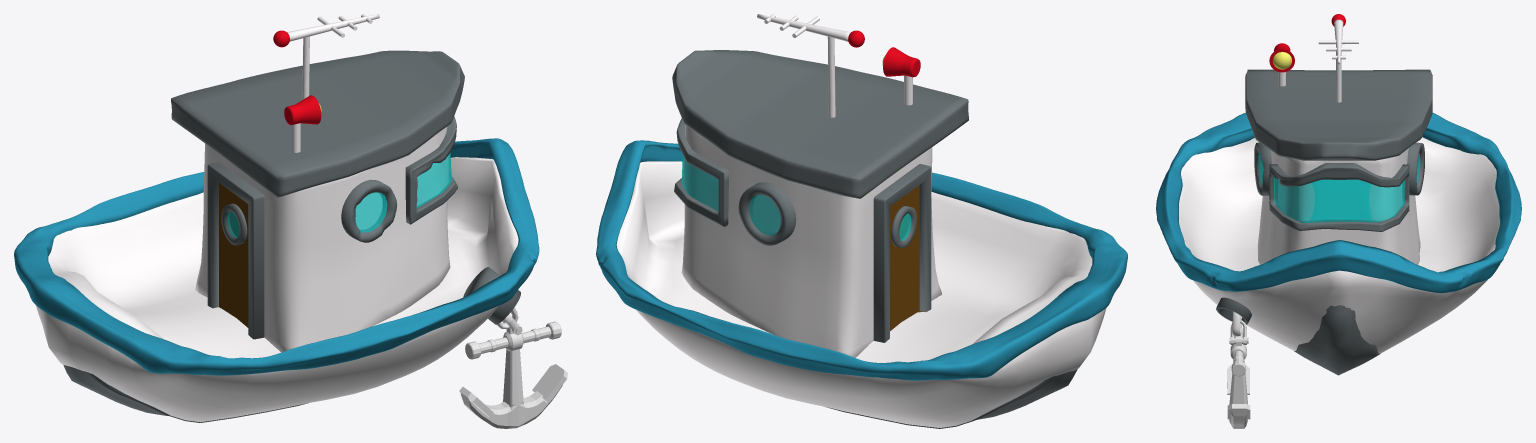
Rendered from Boat3.fbx.
The picture shows the model from 3 angles, left to right: view 1: azimuth 30°, elevation 25°; view 2: azimuth 150°, elevation 25°; view 3: azimuth 270°, elevation 25°; orthographic projection. The views are drawn at different scales.
Parts seen in each view (by area): view 1: Cube, Cube.001, Plane.001, Cube.002, Cube.006, Cube.004, Cube.003, Plane.002, Circle.001, Sphere, Cube.005, Plane (+4 smaller); view 2: Cube, Plane.001, Cube.001, Cube.002, Cube.004, Cube.003, Plane.002, Circle.006, Sphere, Cube.005, Plane, Circle.005 (+2 smaller); view 3: Cube, Cube.002, Plane.001, Cube.001, Plane, Plane.002, Cube.005, Cube.006, Sphere, Circle.006, Circle.001, Sphere.001 (+1 smaller).
Part boxes in pixels (x1=…): Cube: x1=36, y1=157, x2=518, y2=422; Cube.001: x1=195, y1=127, x2=450, y2=352; Plane.001: x1=171, y1=50, x2=464, y2=197; Cube.002: x1=14, y1=138, x2=539, y2=375; Cube.006: x1=459, y1=314, x2=567, y2=428; Cube.004: x1=207, y1=162, x2=264, y2=339; Cube.003: x1=219, y1=183, x2=248, y2=327; Plane.002: x1=405, y1=116, x2=457, y2=224; Circle.001: x1=341, y1=179, x2=397, y2=242; Sphere: x1=273, y1=14, x2=379, y2=99; Cube.005: x1=63, y1=365, x2=308, y2=422; Plane: x1=416, y1=152, x2=452, y2=207; Cube: x1=616, y1=161, x2=1106, y2=427; Plane.001: x1=672, y1=50, x2=968, y2=198; Cube.001: x1=681, y1=125, x2=941, y2=357; Cube.002: x1=596, y1=140, x2=1127, y2=380; Cube.004: x1=873, y1=164, x2=931, y2=342; Cube.003: x1=890, y1=185, x2=923, y2=330; Plane.002: x1=674, y1=118, x2=728, y2=226; Circle.006: x1=738, y1=182, x2=796, y2=245; Sphere: x1=757, y1=14, x2=864, y2=117; Cube.005: x1=826, y1=369, x2=1077, y2=428; Plane: x1=682, y1=154, x2=718, y2=211; Circle.005: x1=749, y1=195, x2=780, y2=235; Cube: x1=1179, y1=137, x2=1499, y2=353; Cube.002: x1=1156, y1=112, x2=1521, y2=293; Plane.001: x1=1245, y1=69, x2=1432, y2=160; Cube.001: x1=1257, y1=148, x2=1420, y2=264; Plane: x1=1274, y1=178, x2=1405, y2=223; Plane.002: x1=1268, y1=163, x2=1409, y2=231; Cube.005: x1=1294, y1=305, x2=1380, y2=375; Cube.006: x1=1227, y1=320, x2=1250, y2=428; Sphere: x1=1318, y1=14, x2=1358, y2=102; Circle.006: x1=1407, y1=142, x2=1424, y2=195; Circle.001: x1=1254, y1=142, x2=1272, y2=195; Sphere.001: x1=1269, y1=43, x2=1294, y2=72.
Bounding box in the file's own units: 1480 × 1179 × 1157.
